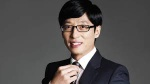male: (52, 1, 112, 65)
